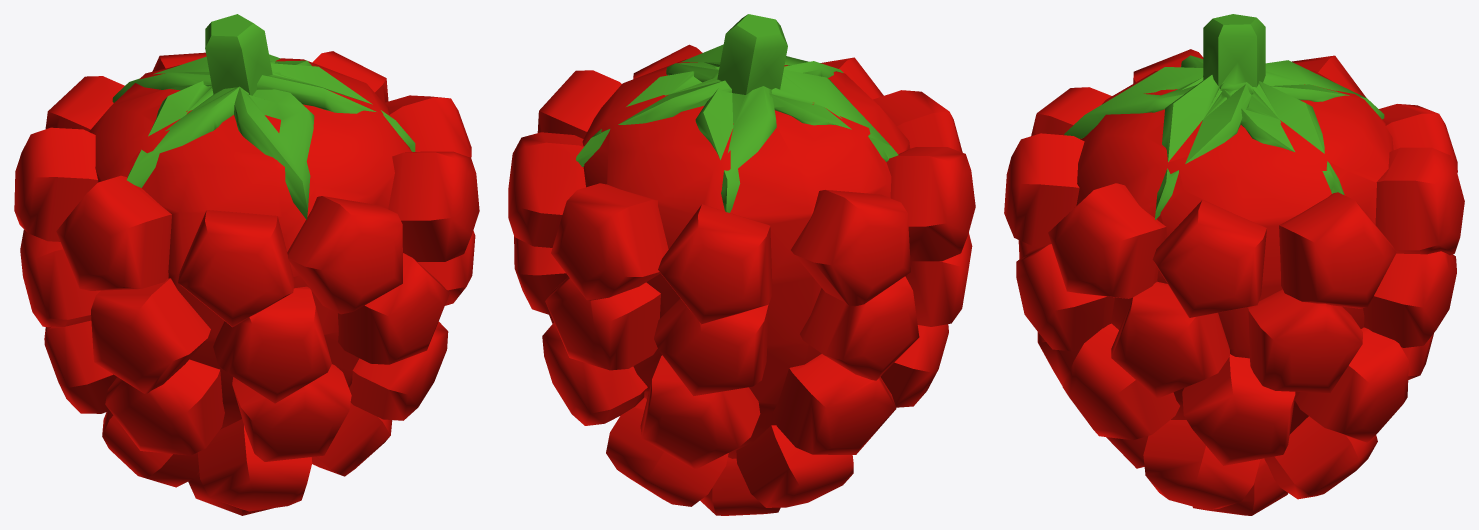
Rendered from Gummy_Legendary_Fruit.glb.
3 views of the same model, side by side, from view 1: azimuth 30°, elevation 25°; view 2: azimuth 150°, elevation 25°; view 3: azimuth 270°, elevation 25° (orthographic).
Visible parts, largest first — view 1: Gummy_Raspberry; view 2: Gummy_Raspberry; view 3: Gummy_Raspberry.
Boxes of the visible parts, <box> form: Gummy_Raspberry: <box>14,14,479,515</box>; Gummy_Raspberry: <box>508,14,975,515</box>; Gummy_Raspberry: <box>1004,14,1464,515</box>.
Size of the model in its own units: 0.706 by 0.81 by 0.7087.
